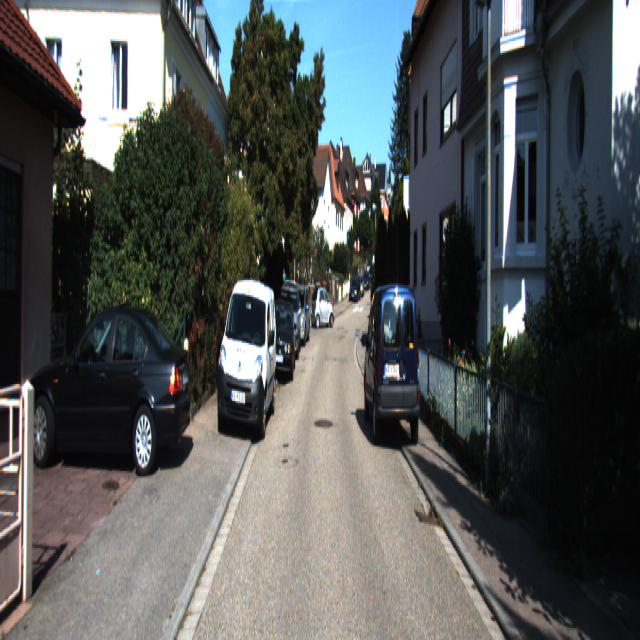Car: (19, 295, 193, 476), (214, 263, 278, 435), (362, 284, 422, 453), (266, 301, 298, 385), (276, 280, 302, 362), (284, 285, 312, 348), (310, 286, 334, 328)
